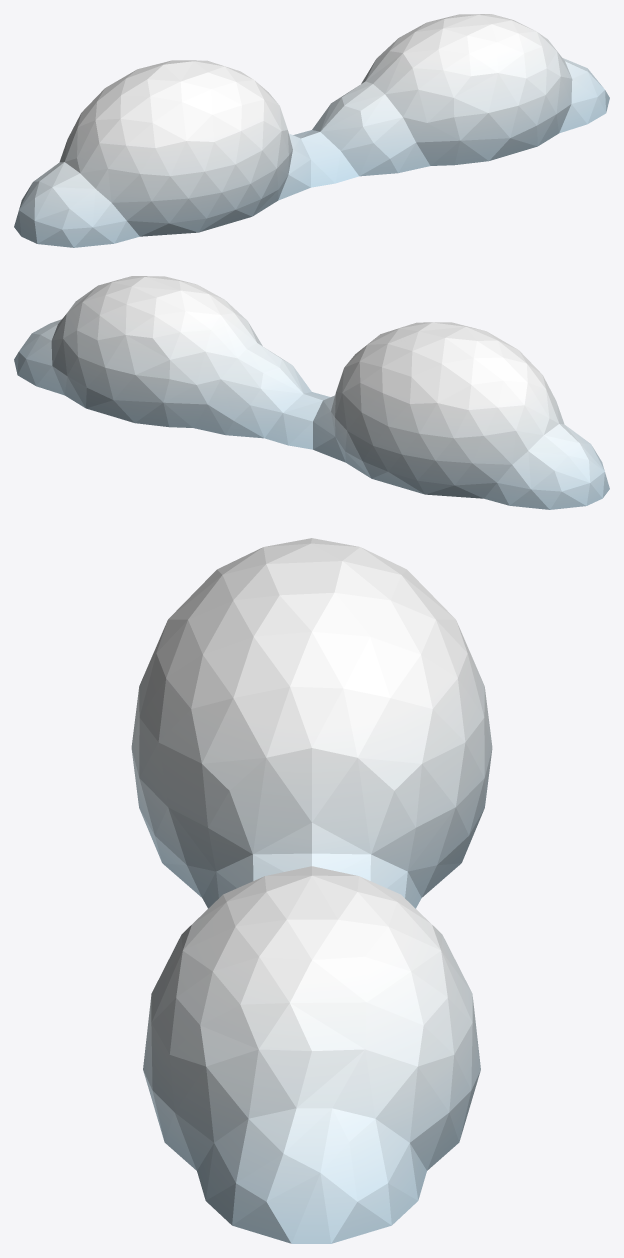
The model's file is cloud_menu_E.fbx.
The picture shows the model from 3 angles, top to bottom: view 1: azimuth 30°, elevation 25°; view 2: azimuth 150°, elevation 25°; view 3: azimuth 270°, elevation 25°; orthographic projection. The views are drawn at different scales.
Visible parts, largest first — view 1: cloud_menu_E; view 2: cloud_menu_E; view 3: cloud_menu_E.
Boxes of the visible parts, x1,y1,x2,y2 form: cloud_menu_E: (14,14,609,247); cloud_menu_E: (14,276,609,509); cloud_menu_E: (131,538,492,1243).
Bounding box in the file's own units: 46.72 × 9.92 × 12.51.
